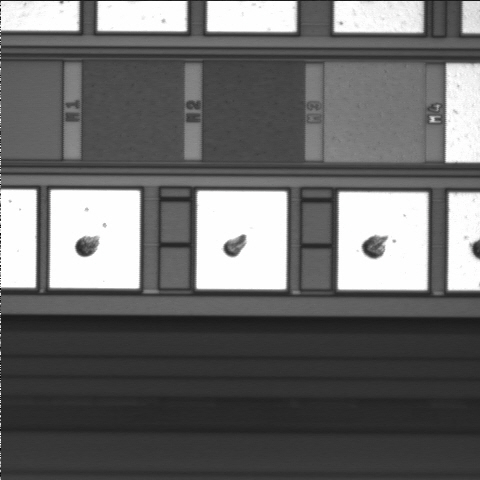pad: (196, 191, 287, 289), (50, 190, 140, 289), (338, 192, 428, 290)
